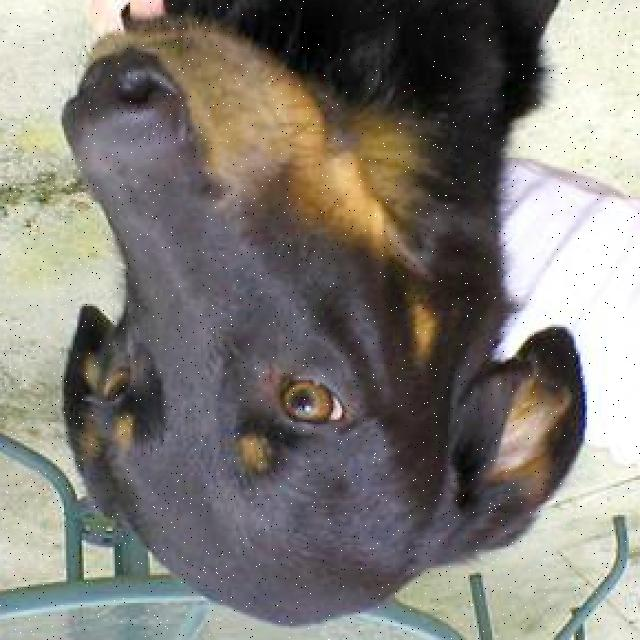Dog: (29, 2, 598, 626)
